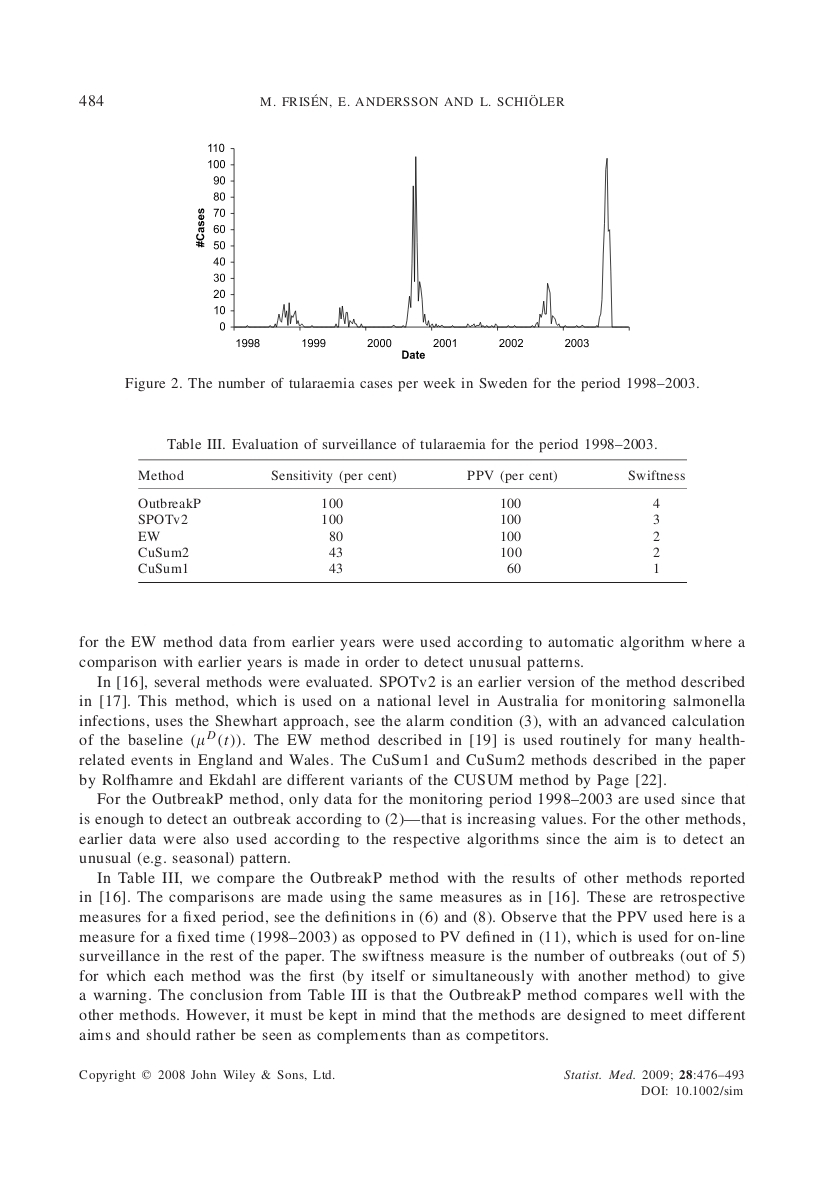Table: (138, 438, 686, 582)
figure: (196, 143, 629, 358)
